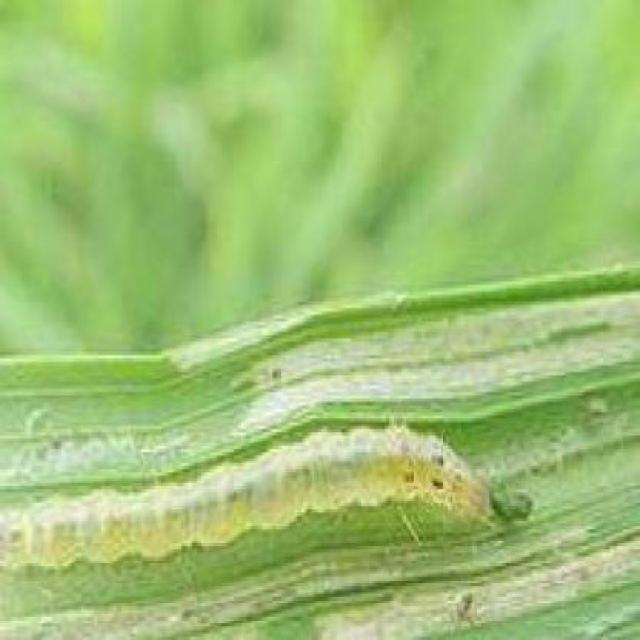leaf-folder: (0, 416, 528, 595)
